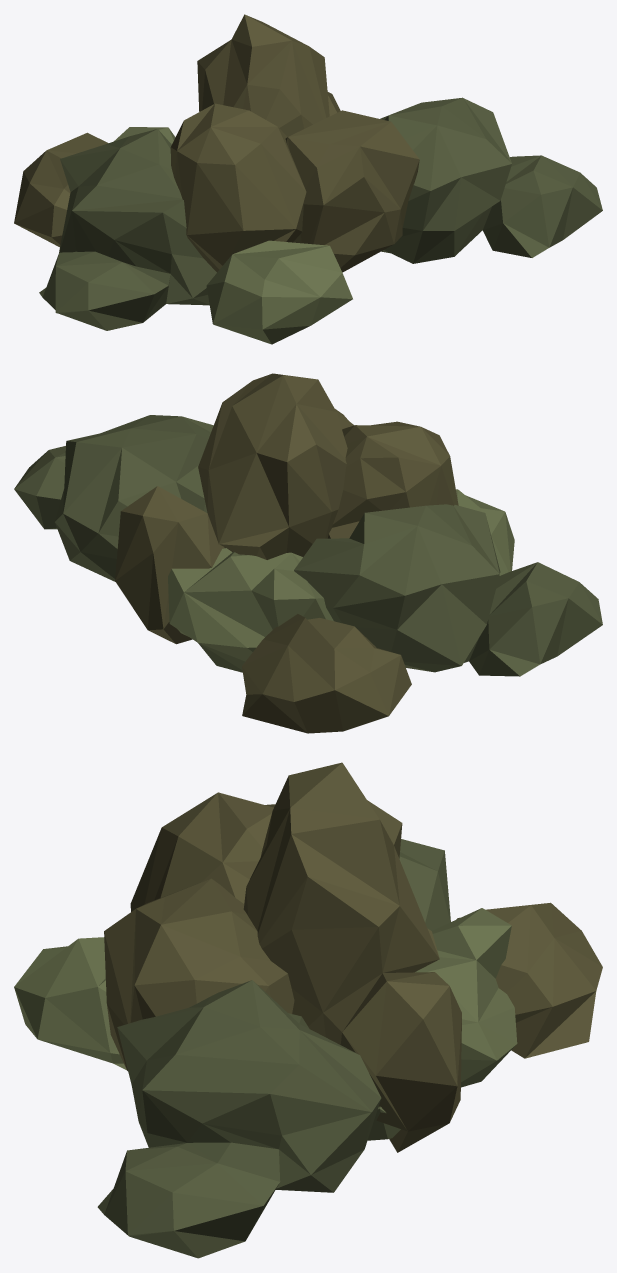
Rendered from SM_Env_Bush_01.fbx.
3 renders of one model, top to bottom at view 1: azimuth 30°, elevation 25°; view 2: azimuth 150°, elevation 25°; view 3: azimuth 270°, elevation 25°, orthographic. The views are drawn at different scales.
Parts seen in each view (by area): view 1: SM_Env_Bush_01; view 2: SM_Env_Bush_01; view 3: SM_Env_Bush_01.
Part boxes in pixels (bbox=[...]): SM_Env_Bush_01: bbox=[14, 14, 602, 344]; SM_Env_Bush_01: bbox=[14, 373, 602, 733]; SM_Env_Bush_01: bbox=[14, 762, 602, 1258].
Size of the model in its own units: 630 by 287 by 442.
Materials: 1 (1 with a texture image).
